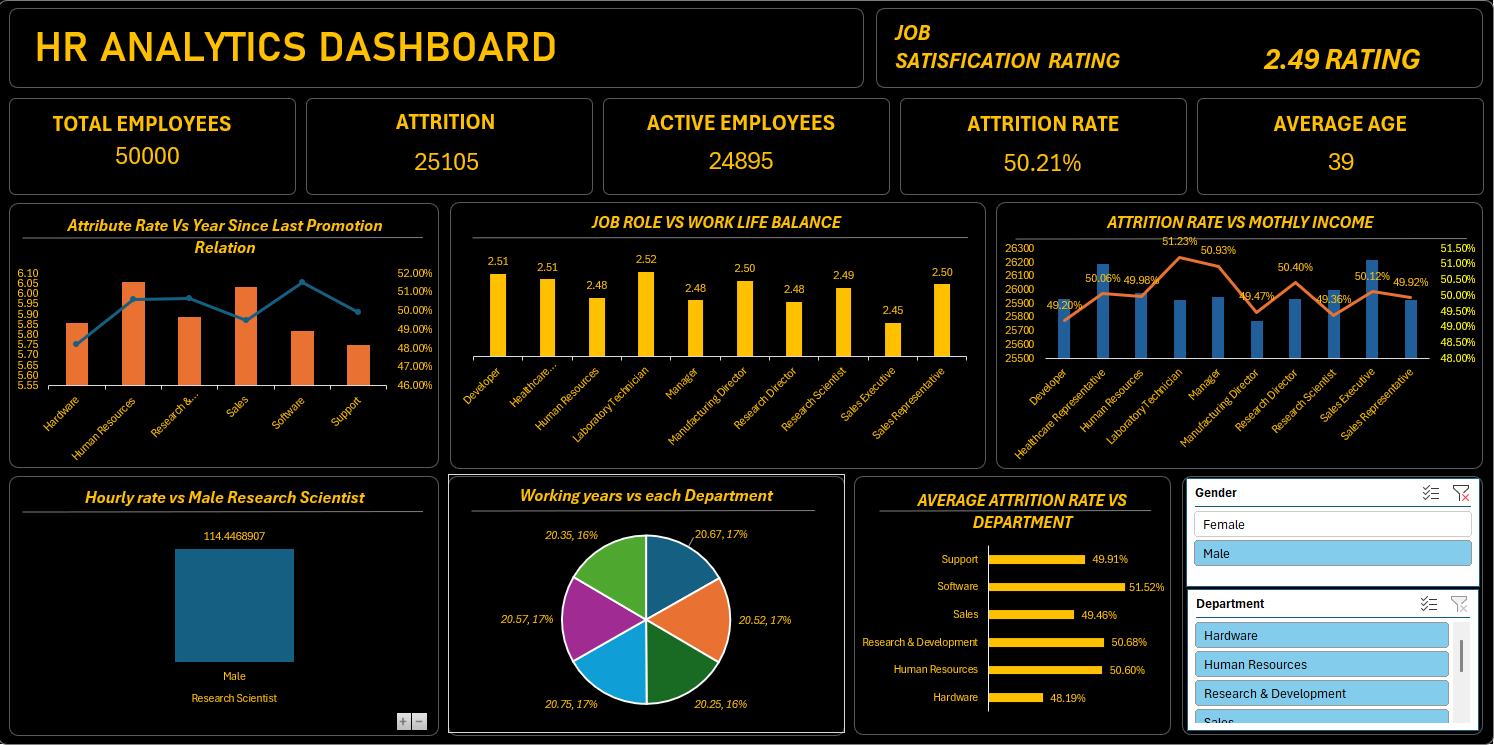

The dashboard page shown, as its layout file describes it:
{"tool":"tableau","page":{"name":"Dashboard 1","canvas":[1000,1000],"units":"permille","ordinal":0},"visuals":[{"type":"image","param":"Image/Slide4.PNG","box":[4.7,8.8,990.6,982.3]},{"type":"text","box":[48,19.9,533.1,74.1]},{"type":"filter","title":"KPI 1","param":"[federated.0gqvzi80anlmew12rq1me12a2xwr].[none:Department:nk]","box":[824.5,22.1,128.2,73]},{"type":"worksheet","title":"KPI 2","mark":"Automatic","rows":["HourlyRate"],"cols":["Gender","JobRole"],"box":[832.6,108.4,121.1,152.7]},{"type":"worksheet","title":"KPIS","mark":"Automatic","box":[49.1,113.9,773.6,141.6]},{"type":"worksheet","title":"KPI 1","mark":"Automatic","rows":["Department"],"cols":["AR"],"box":[46.8,273.2,266.8,404.9]},{"type":"worksheet","title":"KPI 3","mark":"Automatic","rows":["Department"],"cols":["AR","Calculation_1502232008578183169","MonthlyIncome"],"box":[318.9,273.2,321.2,403.8]},{"type":"worksheet","title":"KPI 6","mark":"Automatic","cols":["Department"],"box":[646,273.2,307.8,404.9]},{"type":"worksheet","title":"KPI 4","mark":"Circle","box":[46.2,689.2,254,288.7]},{"type":"worksheet","title":"KPI 5","mark":"Automatic","box":[306.6,692.5,647.2,286.5]}]}

Visuals, with their boxes on the dashboard's canvas, which has no fixed pixel size, in thousandths of its width and height (x1, y1, x2, y2). These are canvas units, not pixel positions in the 1494x745 screenshot, which may show the page scaled, cropped or inside an application window:
image: left=5, top=9, right=995, bottom=991
text: left=48, top=20, right=581, bottom=94
"KPI 1" filter: left=824, top=22, right=953, bottom=95
"KPI 2" worksheet: left=833, top=108, right=954, bottom=261
"KPIS" worksheet: left=49, top=114, right=823, bottom=256
"KPI 1" worksheet: left=47, top=273, right=314, bottom=678
"KPI 3" worksheet: left=319, top=273, right=640, bottom=677
"KPI 6" worksheet: left=646, top=273, right=954, bottom=678
"KPI 4" worksheet (Circle marks): left=46, top=689, right=300, bottom=978
"KPI 5" worksheet: left=307, top=692, right=954, bottom=979
